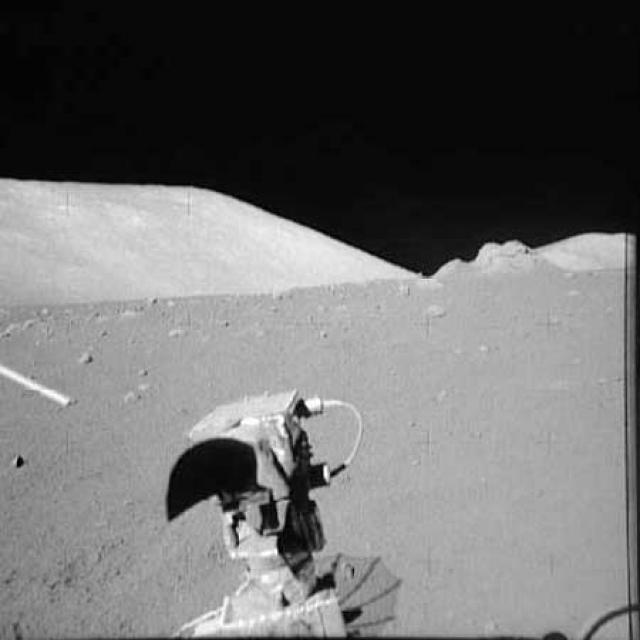artifact: (161, 380, 408, 638), (0, 357, 83, 419), (568, 588, 638, 638)
rock: (426, 237, 567, 289)
